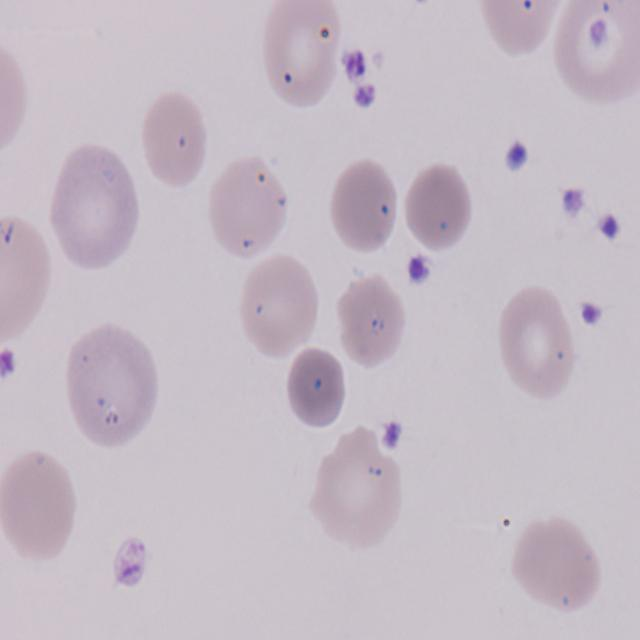RBC: (50, 138, 142, 274), (65, 318, 160, 449), (310, 432, 405, 554), (495, 287, 581, 402), (507, 518, 604, 618), (0, 451, 81, 568), (259, 0, 342, 114), (552, 0, 640, 107), (238, 252, 322, 364), (206, 155, 291, 263), (331, 272, 412, 372), (139, 90, 209, 192), (0, 214, 54, 344), (475, 0, 571, 58), (0, 39, 29, 160)
Spherocyte: (325, 158, 402, 262), (400, 162, 475, 258), (282, 346, 352, 436)
